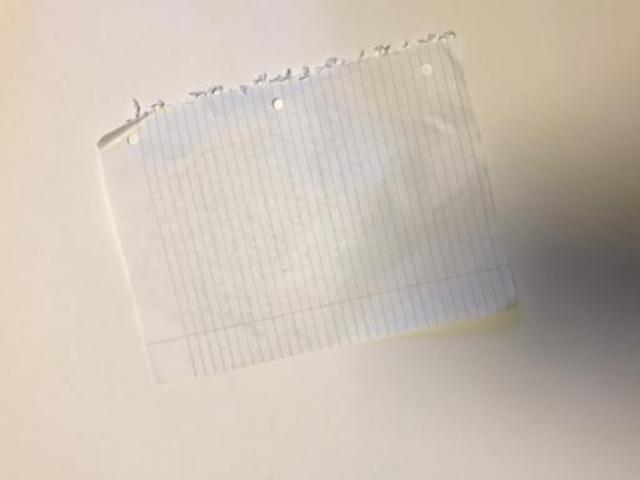cardboard paper: (100, 36, 515, 379)
